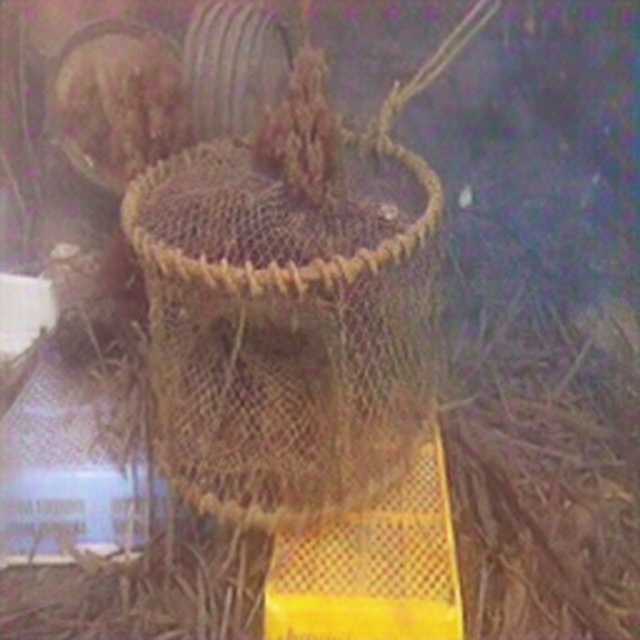mine: (119, 126, 444, 535)
